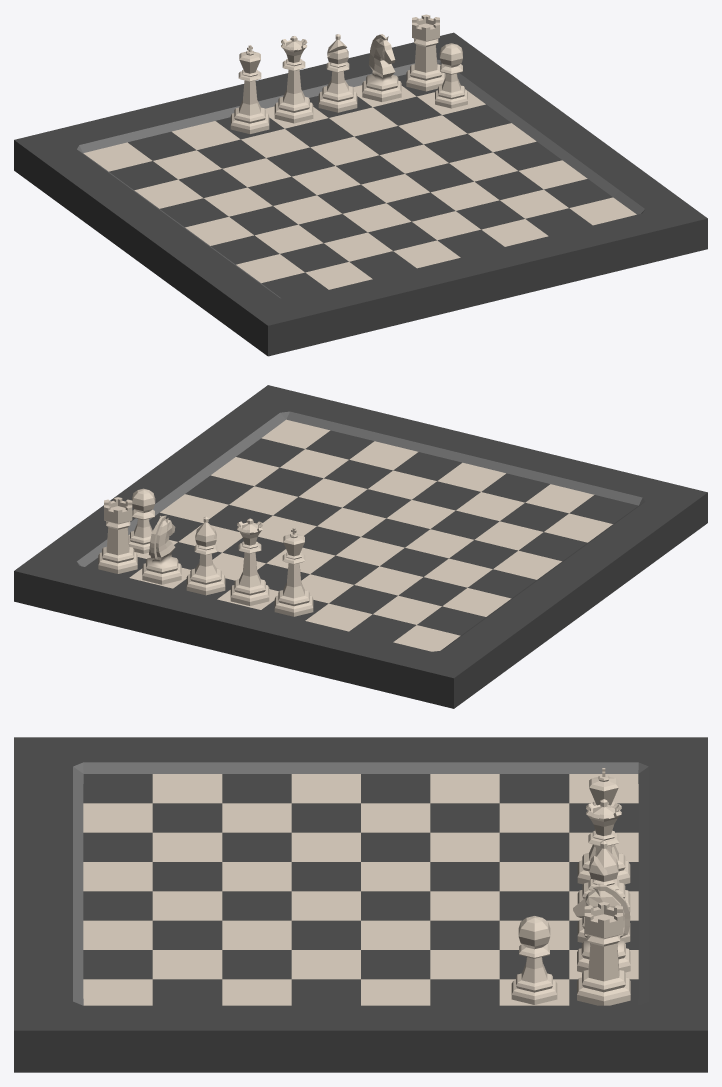
The model's file is ChessSet.fbx.
The picture shows the model from 3 angles, top to bottom: view 1: azimuth 30°, elevation 25°; view 2: azimuth 150°, elevation 25°; view 3: azimuth 270°, elevation 25°; orthographic projection. The views are drawn at different scales.
Parts seen in each view (by area): view 1: Board, Rook, Queen, King, Knight, Bishop, Pawn; view 2: Board, Rook, Queen, King, Knight, Bishop, Pawn; view 3: Board, Rook, Pawn, Knight, Queen, King, Bishop.
Boxes of the visible parts, left/top/right/bottom form: Board: left=14, top=32, right=707, bottom=356; Rook: left=406, top=14, right=445, bottom=91; Queen: left=274, top=36, right=313, bottom=123; King: left=230, top=45, right=269, bottom=133; Knight: left=362, top=34, right=401, bottom=101; Bishop: left=318, top=34, right=357, bottom=112; Pawn: left=435, top=43, right=467, bottom=108; Board: left=14, top=385, right=707, bottom=708; Rook: left=98, top=497, right=137, bottom=573; Queen: left=230, top=518, right=269, bottom=605; King: left=274, top=527, right=313, bottom=616; Knight: left=142, top=515, right=181, bottom=584; Bishop: left=186, top=516, right=225, bottom=595; Pawn: left=128, top=488, right=155, bottom=553; Board: left=14, top=737, right=707, bottom=1072; Rook: left=577, top=902, right=630, bottom=1005; Pawn: left=511, top=916, right=557, bottom=1004; Knight: left=573, top=884, right=630, bottom=972; Queen: left=577, top=799, right=630, bottom=911; King: left=577, top=768, right=630, bottom=884; Bishop: left=577, top=840, right=630, bottom=942.
Bounding box in the file's own units: 10 × 2.27 × 10.
